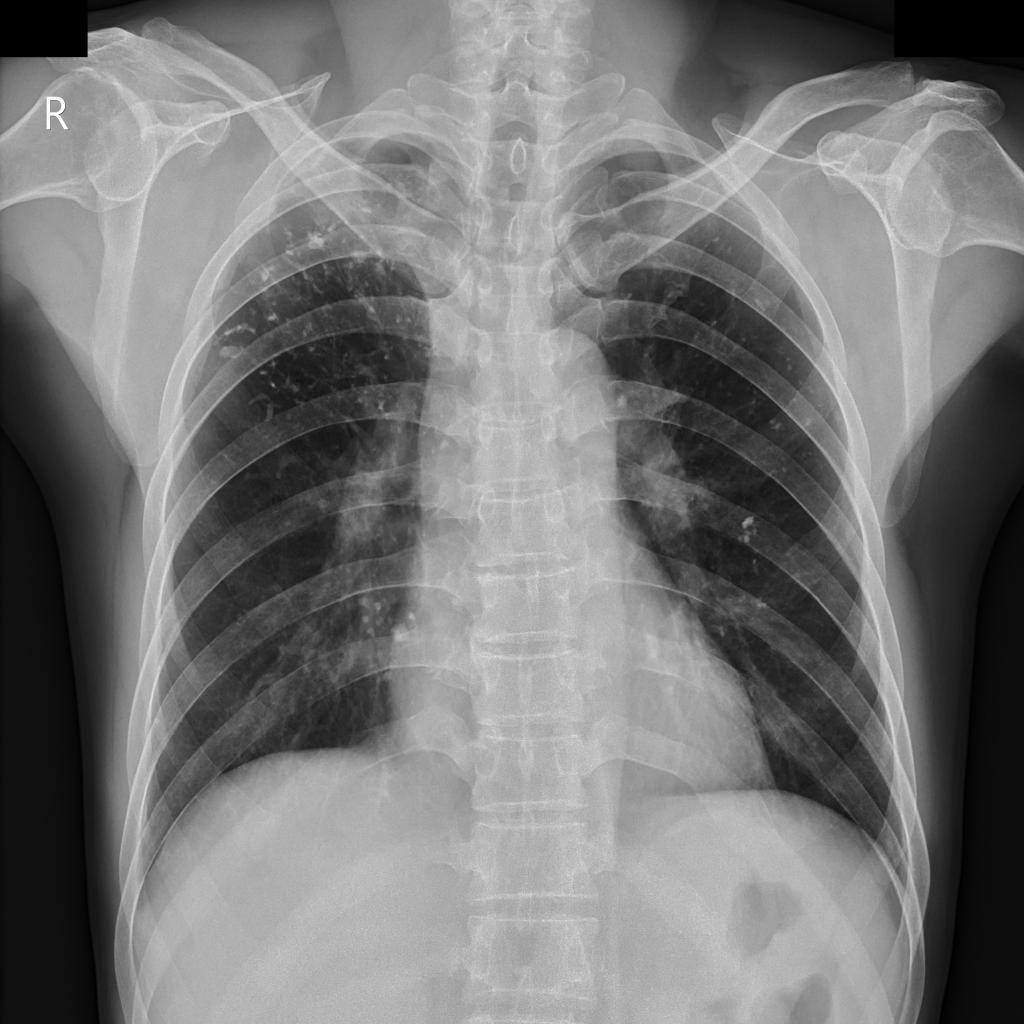Nodule: (362, 598, 420, 645), (740, 515, 760, 546), (749, 386, 761, 421), (779, 352, 799, 373), (757, 295, 774, 314), (801, 381, 816, 395), (769, 417, 783, 432), (714, 236, 721, 244)
